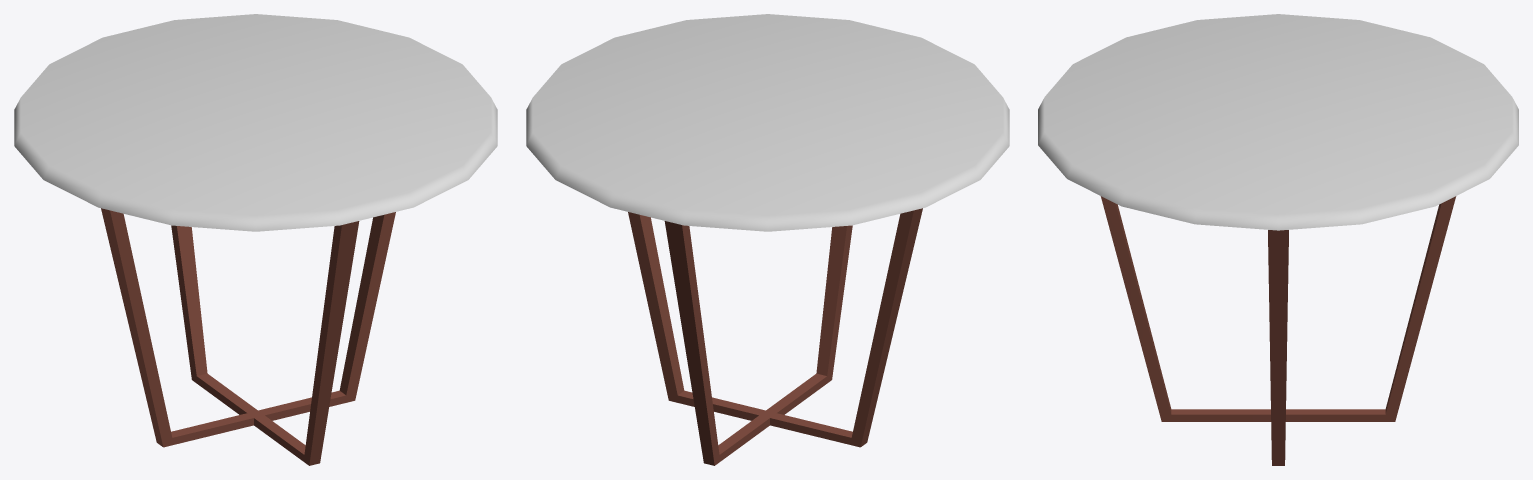
Rendered from side_table_high.fbx.
3 views of the same model, side by side, from view 1: azimuth 30°, elevation 25°; view 2: azimuth 150°, elevation 25°; view 3: azimuth 270°, elevation 25° (orthographic).
Parts seen in each view (by area): view 1: side_table_opt:SideTable; view 2: side_table_opt:SideTable; view 3: side_table_opt:SideTable.
Part boxes in pixels (x1=…): side_table_opt:SideTable: x1=14, y1=14, x2=497, y2=465; side_table_opt:SideTable: x1=526, y1=14, x2=1009, y2=465; side_table_opt:SideTable: x1=1038, y1=14, x2=1518, y2=465.
Size of the model in its own units: 54.3 by 37.43 by 53.48.
